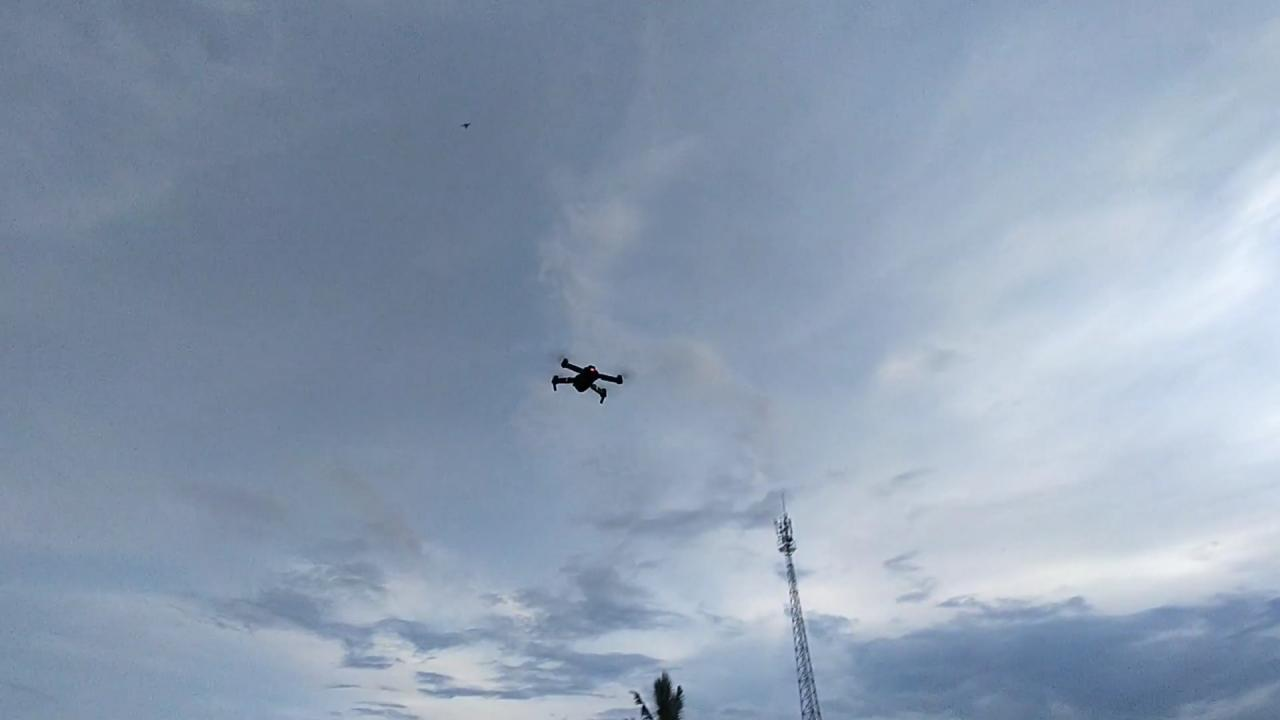Drone: (538, 345, 636, 412)
